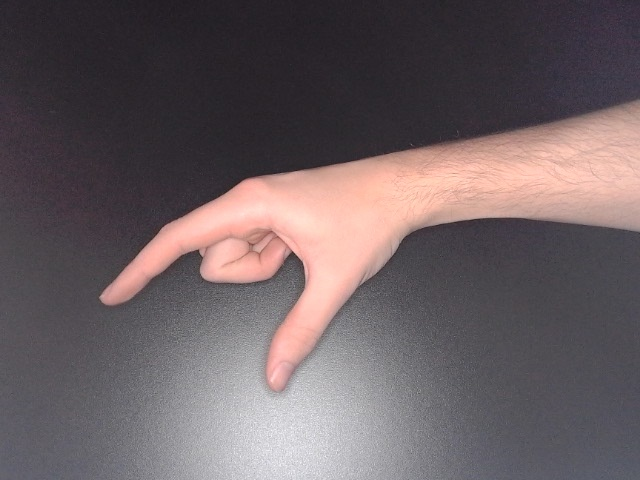q: (93, 145, 495, 398)
